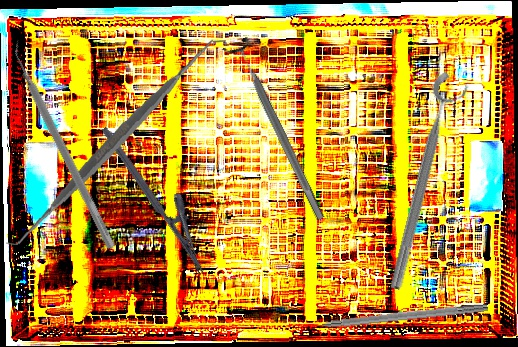Fixation Ring: (221, 35, 335, 226), (383, 70, 473, 295)
Hook Surgical: (297, 301, 489, 332)
Needle Holder: (100, 113, 225, 276)
Spatula Surgical: (5, 25, 227, 259), (3, 36, 125, 251)
